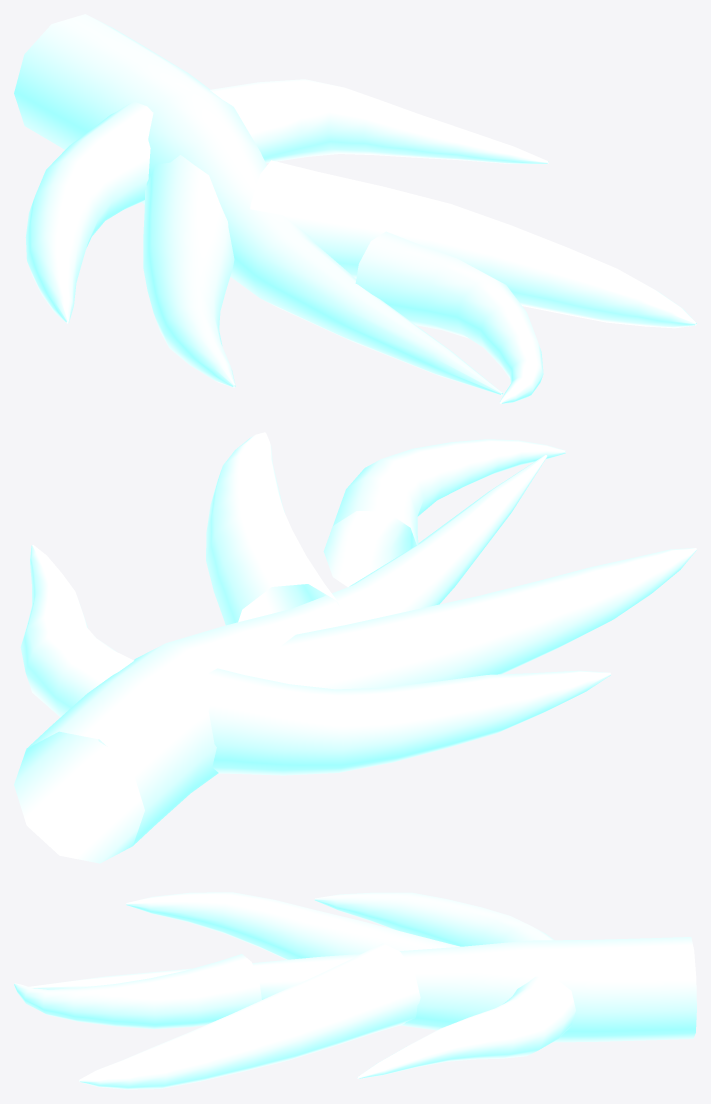
File: CoralOrganicCyan_v07.glb
The picture shows the model from 3 angles, top to bottom: view 1: azimuth 30°, elevation 25°; view 2: azimuth 150°, elevation 25°; view 3: azimuth 270°, elevation 25°; orthographic projection. The views are drawn at different scales.
Parts seen in each view (by area): view 1: CoralOrganicCyan; view 2: CoralOrganicCyan; view 3: CoralOrganicCyan.
Part boxes in pixels (<box>): CoralOrganicCyan: <box>14,14,696,403</box>; CoralOrganicCyan: <box>14,432,696,863</box>; CoralOrganicCyan: <box>14,892,696,1089</box>.
Size of the model in its own units: 105 by 22.97 by 159.
